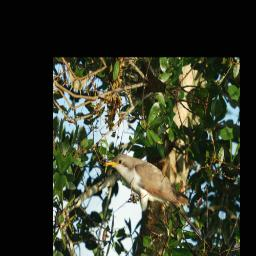Cuckoo: (95, 144, 196, 240)
